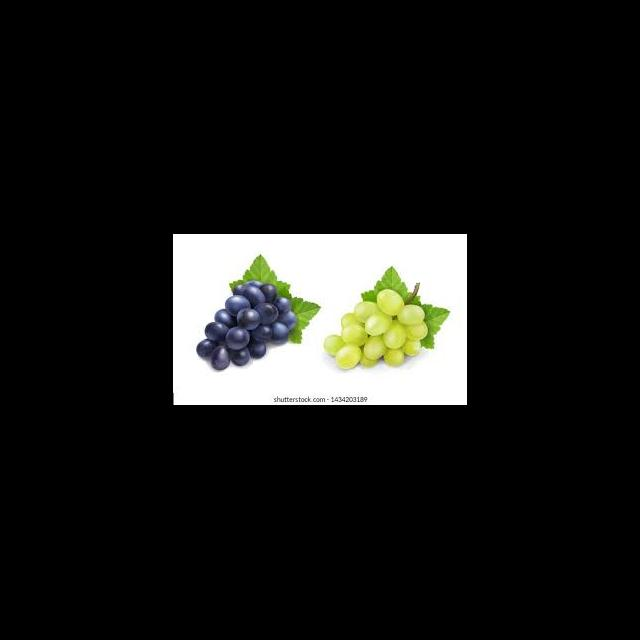grape: (195, 280, 296, 370), (323, 284, 428, 369)
